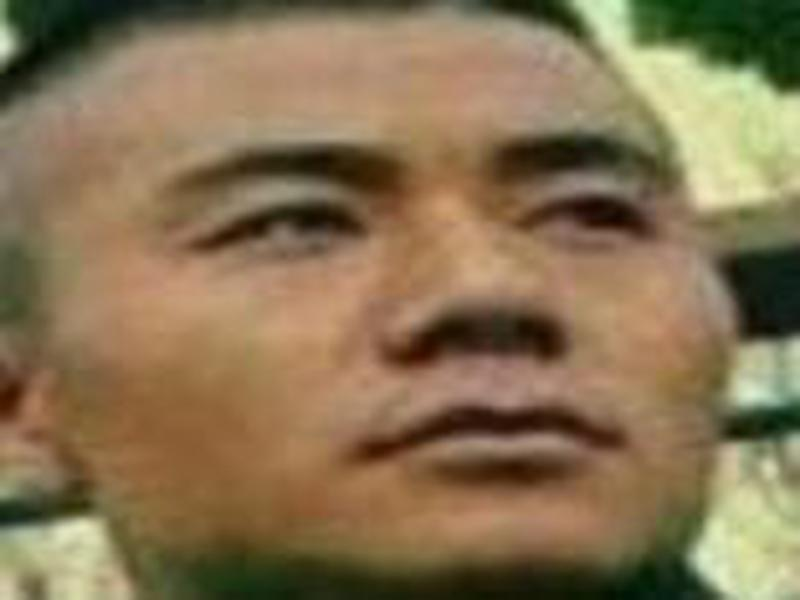without_mask: (49, 46, 751, 584)
